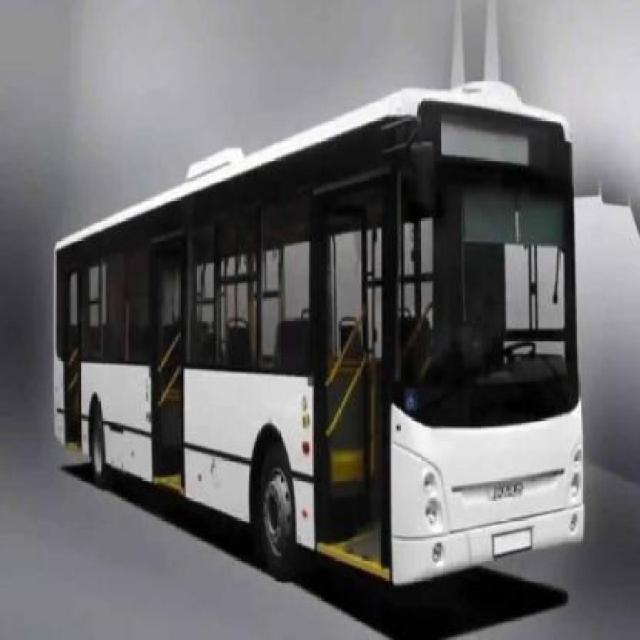bus: (57, 76, 585, 587)
